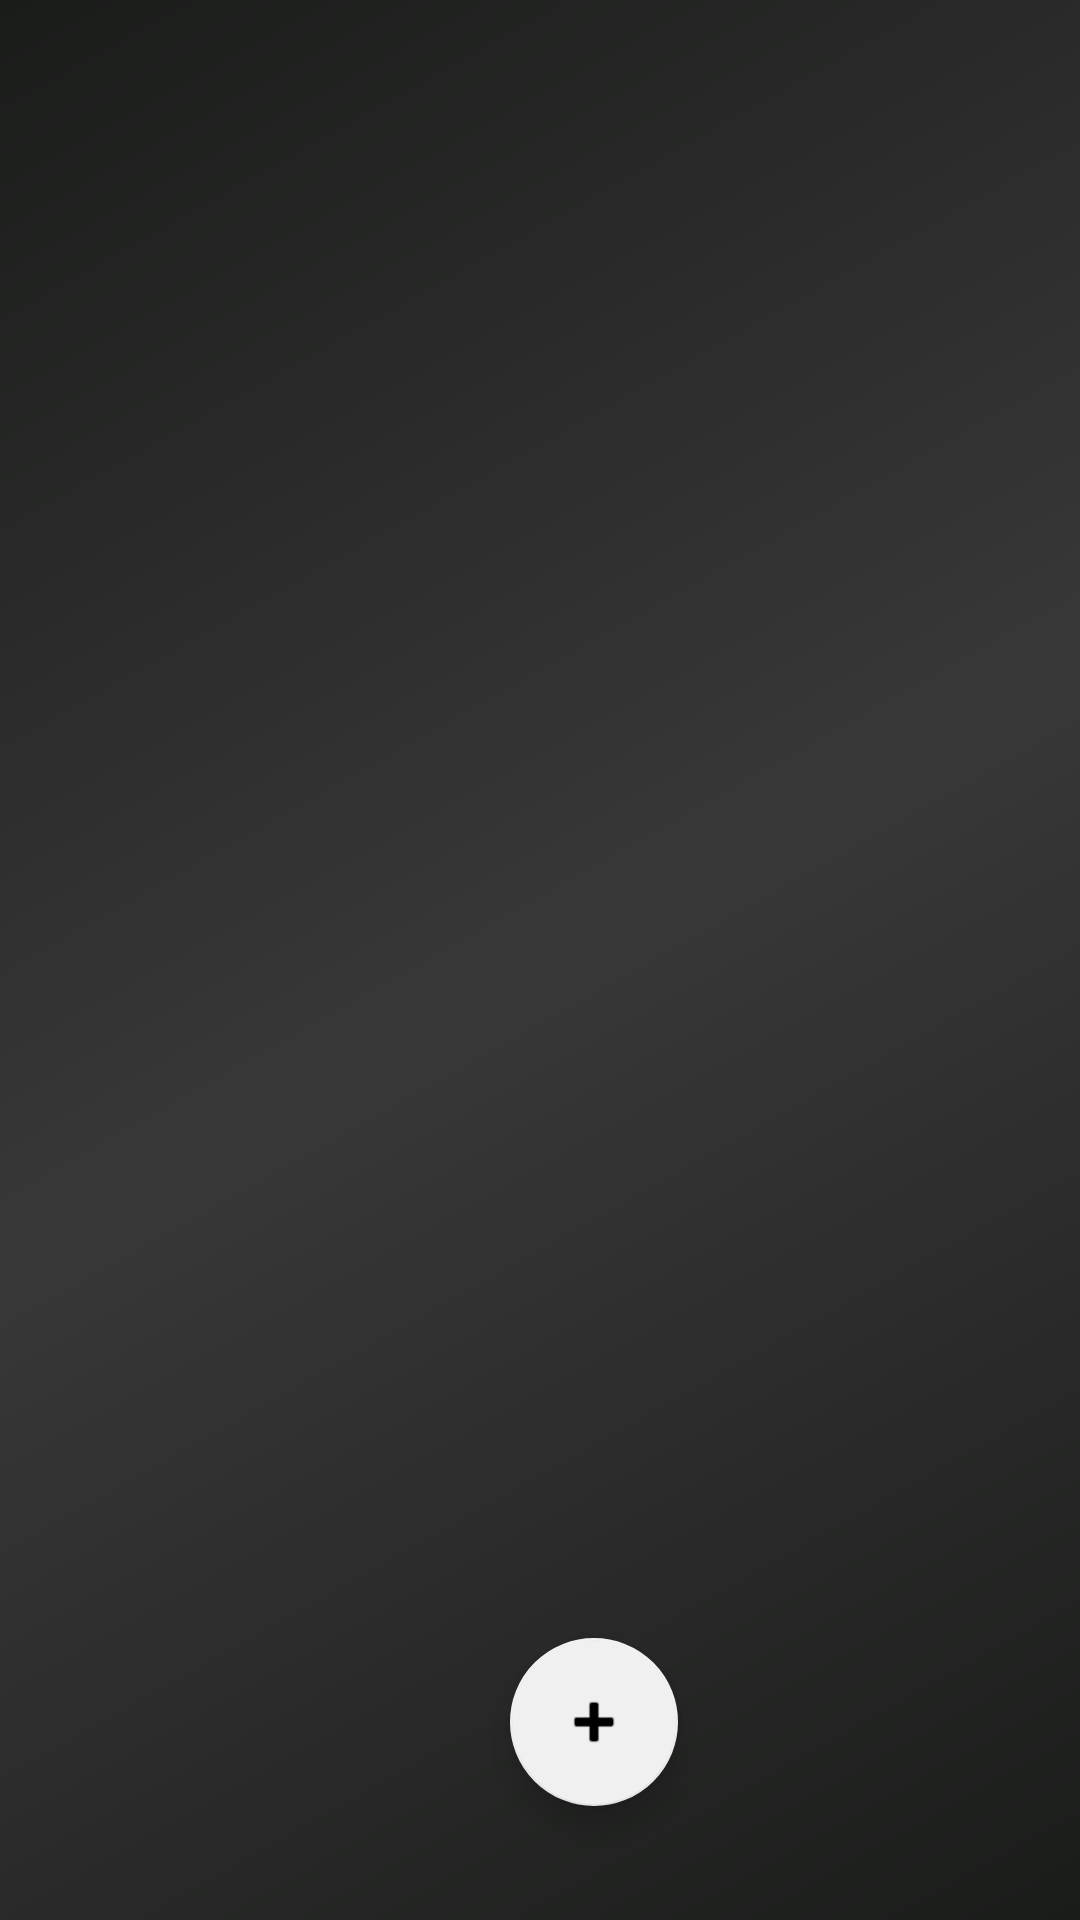

Icons on this 1080w x 1920h Android screen, each with its box as {"x1": x1, "y1": y1, "x2": x2, "y2": y2}:
add: {"x1": 510, "y1": 1638, "x2": 678, "y2": 1806}
